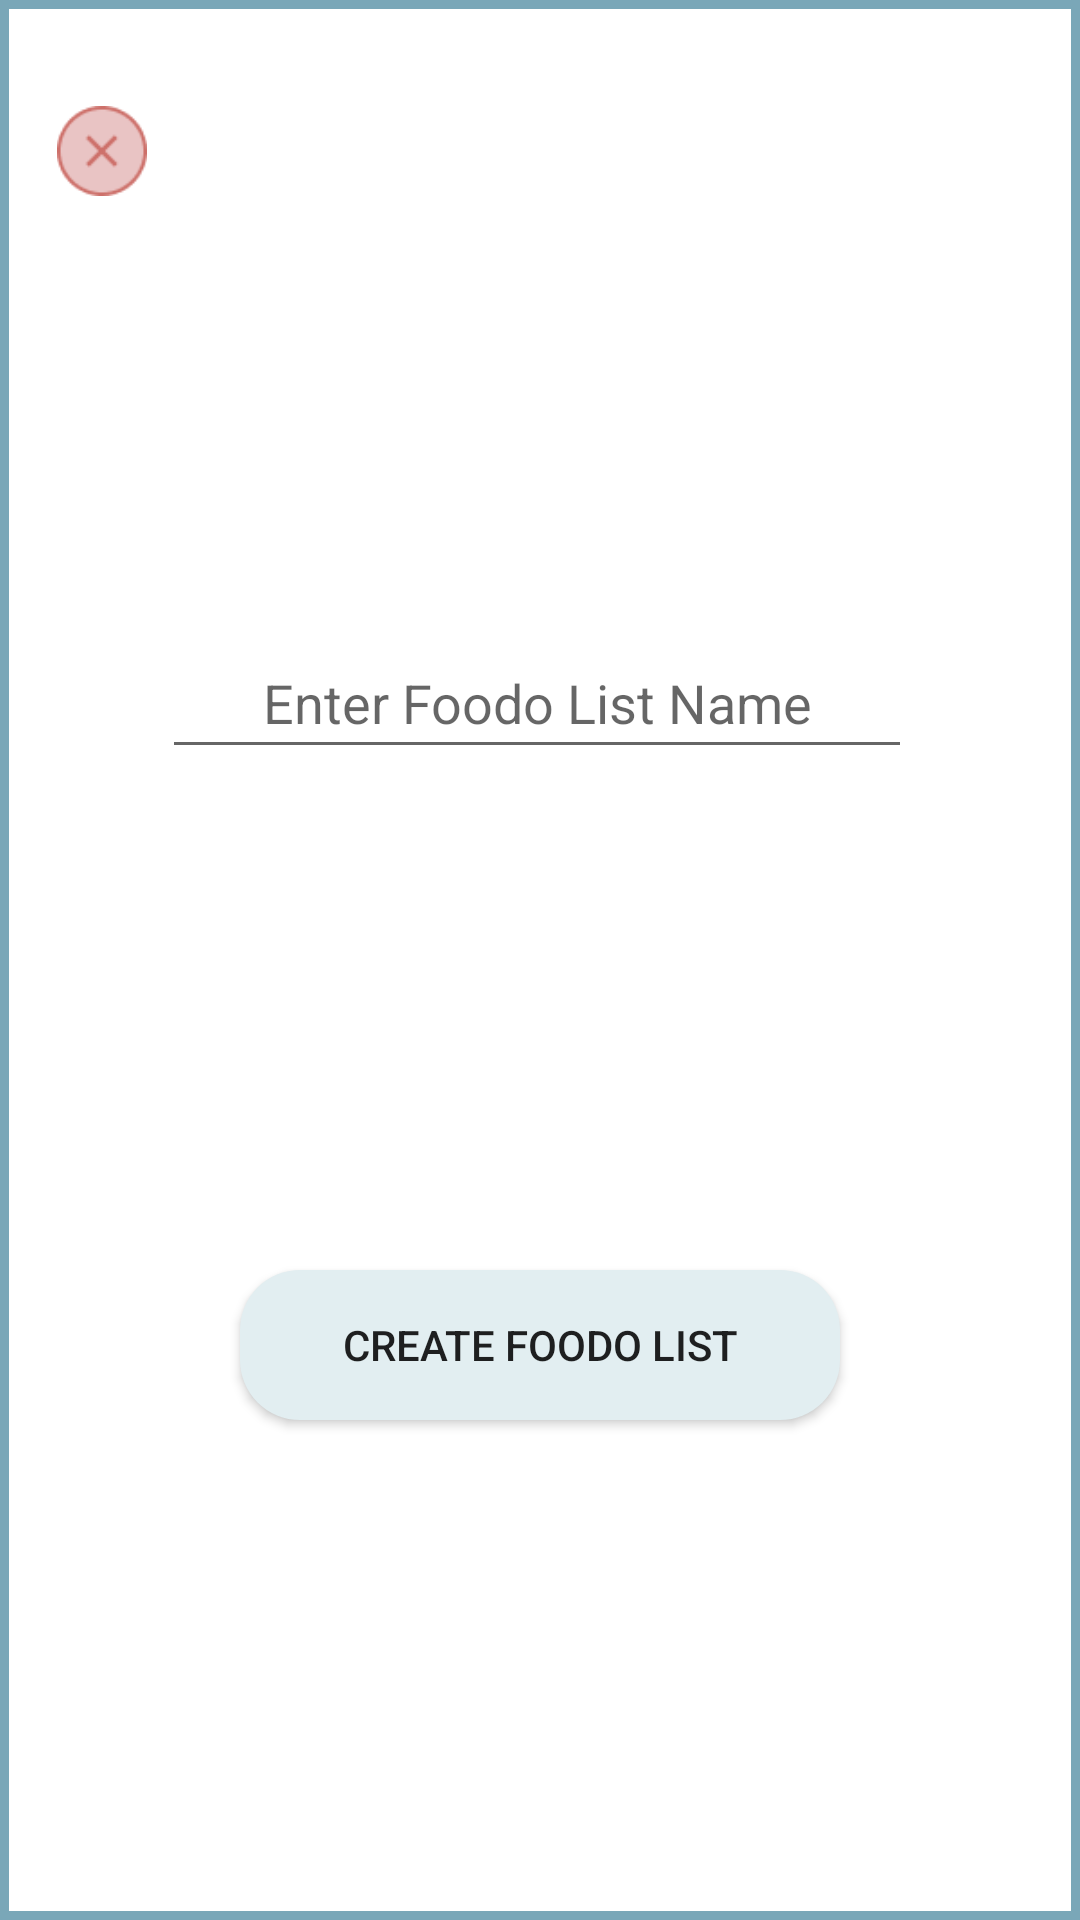

Named icons in this screenshot (1080 × 1920) and their bounding boxes, {"x1": x1, "y1": y1, "x2": x2, "y2": y2}:
cancel: {"x1": 57, "y1": 106, "x2": 147, "y2": 196}
